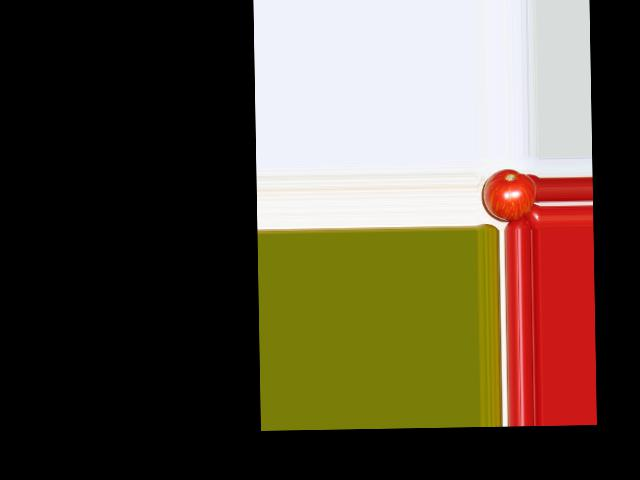tomato: (482, 168, 536, 221)
